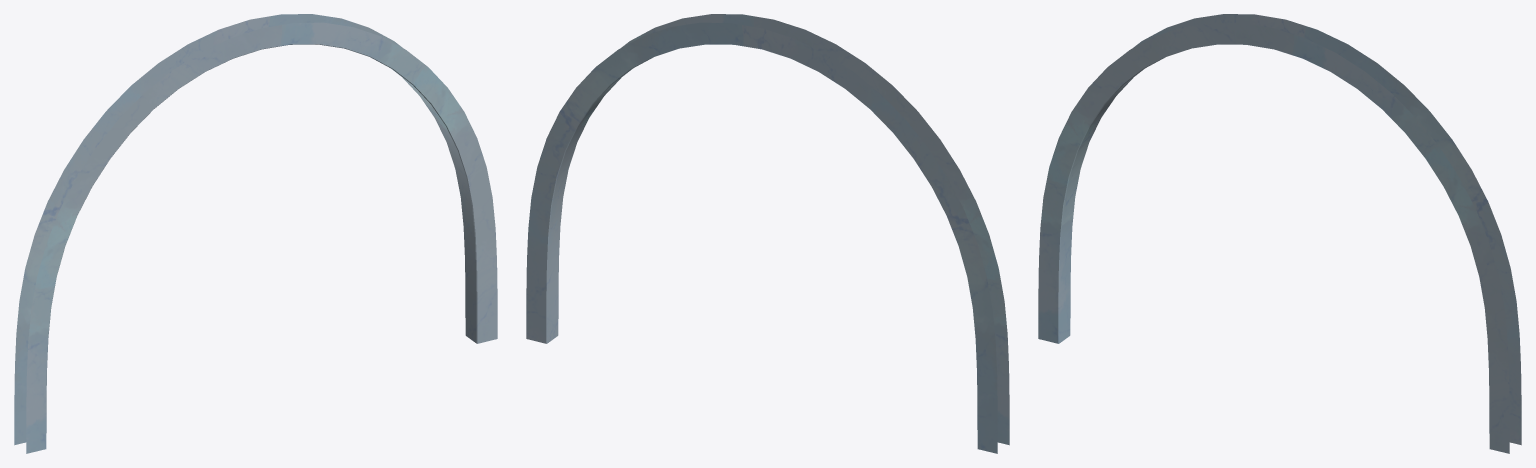
Rendered from Arch center.fbx.
3 views of the same model, side by side, from view 1: azimuth 30°, elevation 25°; view 2: azimuth 150°, elevation 25°; view 3: azimuth 330°, elevation 25° (orthographic).
Visible parts, largest first — view 1: Arch center; view 2: Arch center; view 3: Arch center.
Boxes of the visible parts, x1,y1,x2,y2 form: Arch center: (14, 14, 497, 453); Arch center: (526, 14, 1009, 453); Arch center: (1038, 14, 1521, 453).
Bounding box in the file's own units: 376 × 280 × 16.42.
